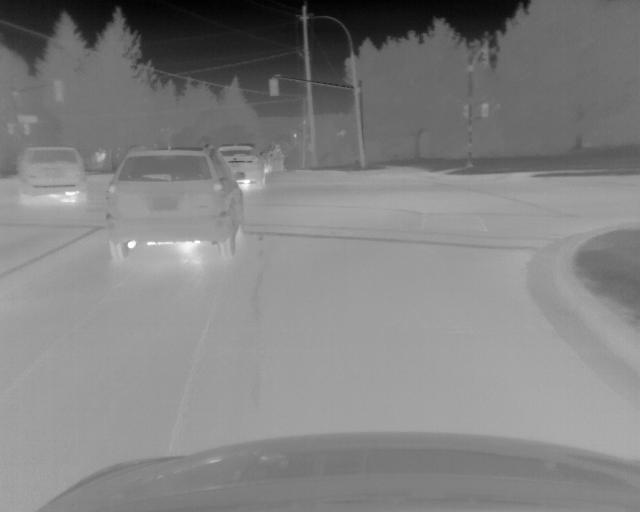car: (103, 147, 245, 264), (16, 144, 86, 210), (217, 143, 267, 190)
